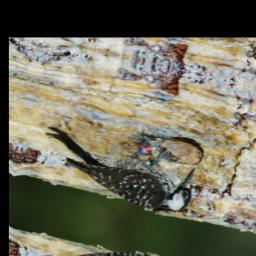Woodpecker: (36, 113, 202, 220)
